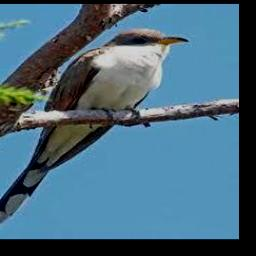Cuckoo: (0, 28, 191, 230)
